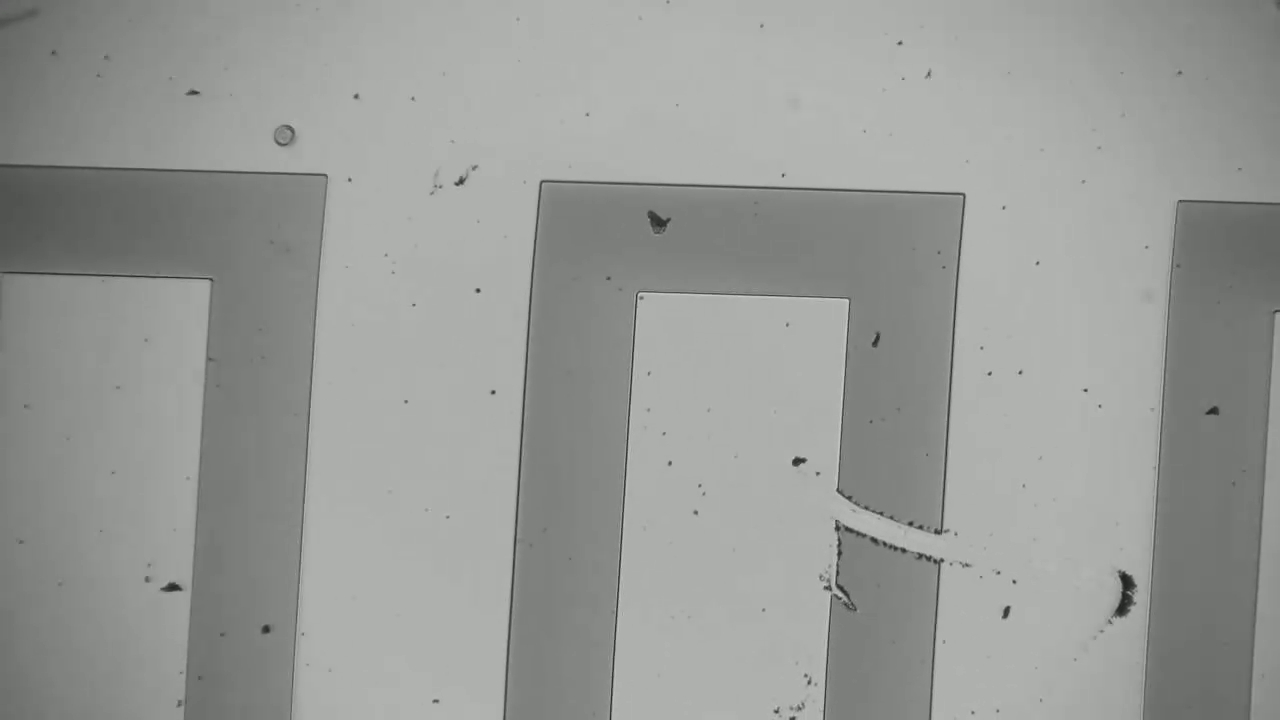Short_circuit: (817, 471, 972, 575)
